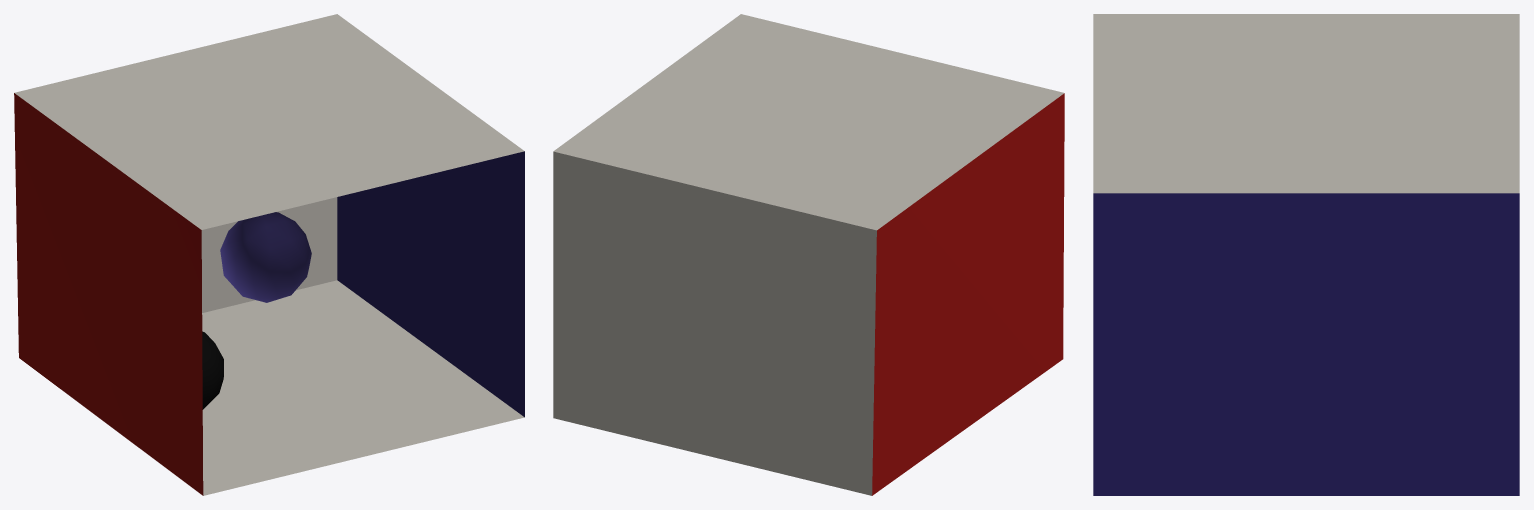
File: CornellBox-Sphere-413.obj
3 views of the same model, side by side, from view 1: azimuth 30°, elevation 25°; view 2: azimuth 150°, elevation 25°; view 3: azimuth 270°, elevation 25° (orthographic). The views are drawn at different scales.
Visible parts, largest first — view 1: ceiling, leftWall, floor, rightWall, leftSphere, backWall, rightSphere; view 2: backWall, ceiling, leftWall; view 3: rightWall, ceiling.
Part boxes in pixels (x1=…): ceiling: x1=14, y1=14, x2=524, y2=229; leftWall: x1=14, y1=93, x2=203, y2=495; floor: x1=202, y1=280, x2=524, y2=495; rightWall: x1=337, y1=151, x2=524, y2=417; leftSphere: x1=220, y1=212, x2=311, y2=302; backWall: x1=201, y1=197, x2=337, y2=312; rightSphere: x1=202, y1=331, x2=223, y2=409; backWall: x1=553, y1=151, x2=876, y2=495; ceiling: x1=553, y1=14, x2=1064, y2=230; leftWall: x1=872, y1=93, x2=1064, y2=495; rightWall: x1=1093, y1=193, x2=1519, y2=495; ceiling: x1=1093, y1=14, x2=1519, y2=193.
Bounding box in the file's own units: 2.02 × 1.59 × 2.03.
